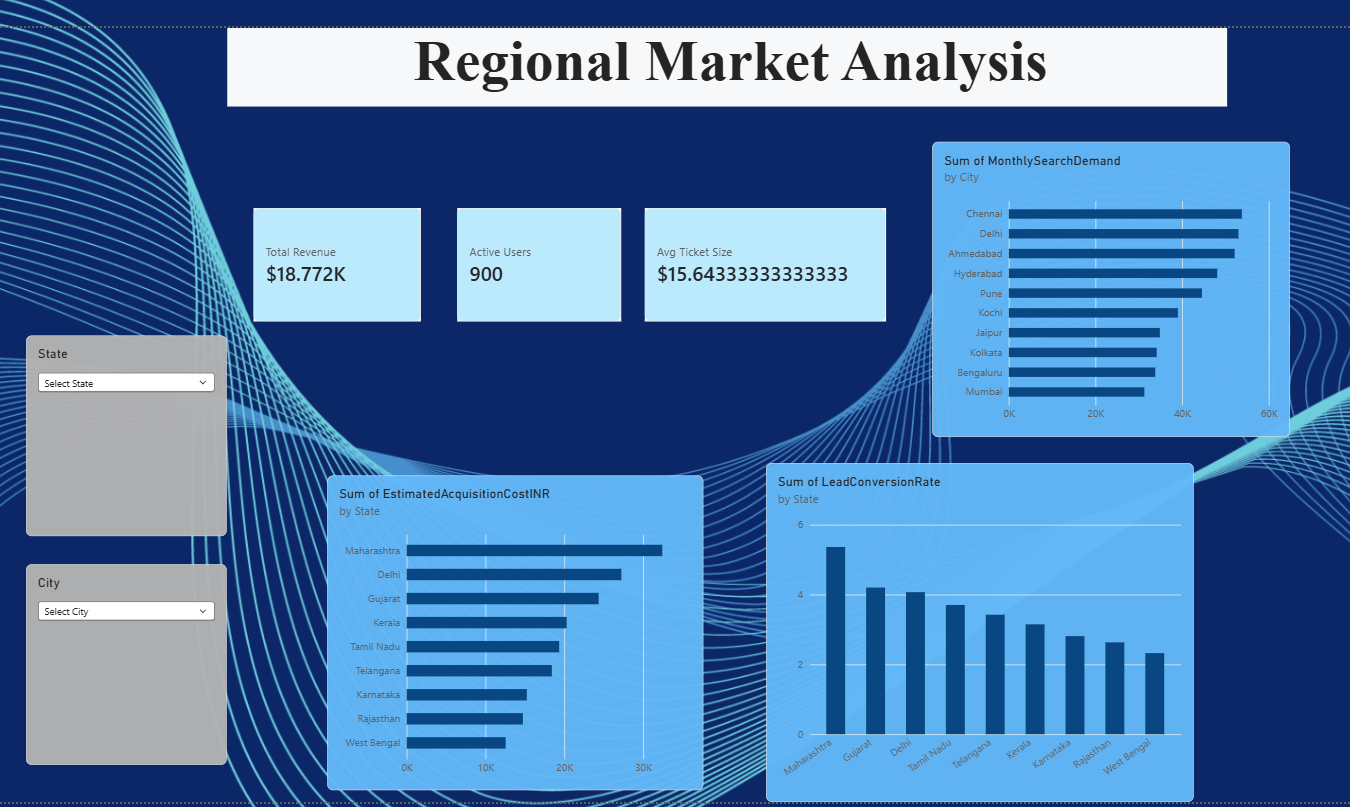

The dashboard page shown, as its layout file describes it:
{"tool":"powerbi","page":{"name":"Regional Market Analysis","canvas":[1920,1080],"ordinal":2},"visuals":[{"type":"cardVisual","fields":{"Data":["regional_market.Total Revenue"]},"box":[366.3,251.2,233.7,158.7],"z":0},{"type":"cardVisual","fields":{"Data":["regional_market.Active Users"]},"box":[650.6,251.2,228.5,158.7],"z":1000},{"type":"cardVisual","fields":{"Data":["regional_market.Avg Ticket Size"]},"box":[912.2,251.2,336.6,158.7],"z":2000},{"type":"listSlicer","fields":{"Values":["regional_market.State"]},"box":[48.8,429.1,280,280],"z":3000},{"type":"listSlicer","fields":{"Values":["regional_market.City"]},"box":[48.8,748.3,280,280],"z":4000},{"type":"clusteredBarChart","fields":{"Category":["regional_market.State"],"Y":["Sum(regional_market.EstimatedAcquisitionCostINR)"]},"box":[469.2,624.4,525,439.5],"z":5000},{"type":"clusteredColumnChart","fields":{"Category":["regional_market.State"],"Y":["Sum(regional_market.LeadConversionRate)"]},"box":[1081.4,607,596.5,472.7],"z":6000},{"type":"clusteredBarChart","fields":{"Category":["regional_market.City"],"Y":["Sum(regional_market.MonthlySearchDemand)"]},"box":[1313.4,158.7,498.8,411.6],"z":7000},{"type":"textbox","box":[329.7,0,1395.4,109.9],"z":7001}]}

Visuals, with their boxes in screenshot pixels (x1, y1, x2, y2):
cardVisual - regional_market.Total Revenue: BBox(249, 205, 417, 319)
cardVisual - regional_market.Active Users: BBox(454, 205, 618, 319)
cardVisual - regional_market.Avg Ticket Size: BBox(642, 205, 884, 319)
listSlicer - regional_market.State: BBox(21, 333, 222, 534)
listSlicer - regional_market.City: BBox(21, 563, 222, 764)
clusteredBarChart - regional_market.State x Sum(regional_market.EstimatedAcquisitionCostINR): BBox(323, 473, 701, 789)
clusteredColumnChart - regional_market.State x Sum(regional_market.LeadConversionRate): BBox(763, 461, 1192, 801)
clusteredBarChart - regional_market.City x Sum(regional_market.MonthlySearchDemand): BBox(930, 139, 1289, 435)
textbox: BBox(223, 25, 1226, 104)
